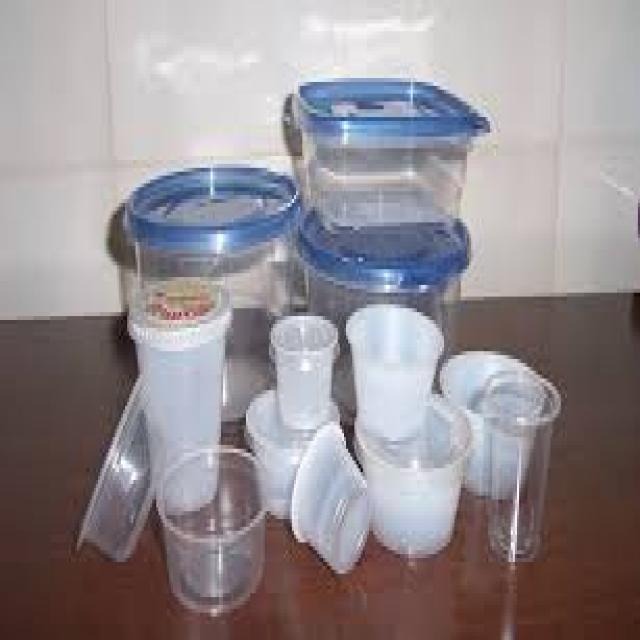disposable: (288, 55, 490, 240)
